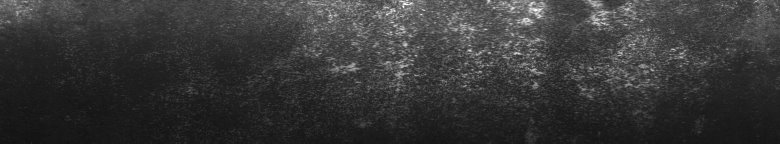kb: (247, 4, 756, 126)
